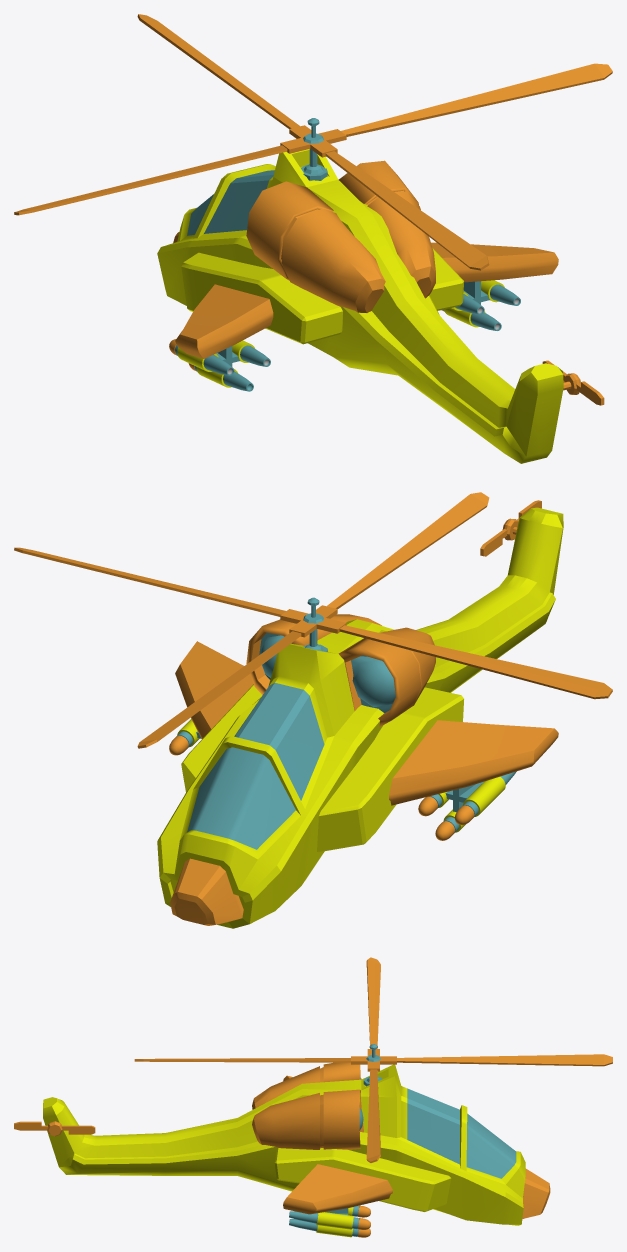
File: UV_Helicopter.fbx
3 views of the same model, one above another, from view 1: azimuth 30°, elevation 25°; view 2: azimuth 150°, elevation 25°; view 3: azimuth 270°, elevation 25° (orthographic). The views are drawn at different scales.
Parts seen in each view (by area): view 1: heli, mid_router; view 2: heli, mid_router; view 3: heli, mid_router, back_router.
Boxes of the visible parts, left/top/right/bottom form: heli: left=157, top=118, right=580, bottom=463; mid_router: left=14, top=14, right=612, bottom=270; heli: left=157, top=507, right=563, bottom=928; mid_router: left=14, top=492, right=612, bottom=748; heli: left=43, top=1044, right=550, bottom=1237; mid_router: left=134, top=957, right=612, bottom=1162; back_router: left=14, top=1121, right=95, bottom=1134.
Size of the model in its own units: 107 by 42.86 by 134.
